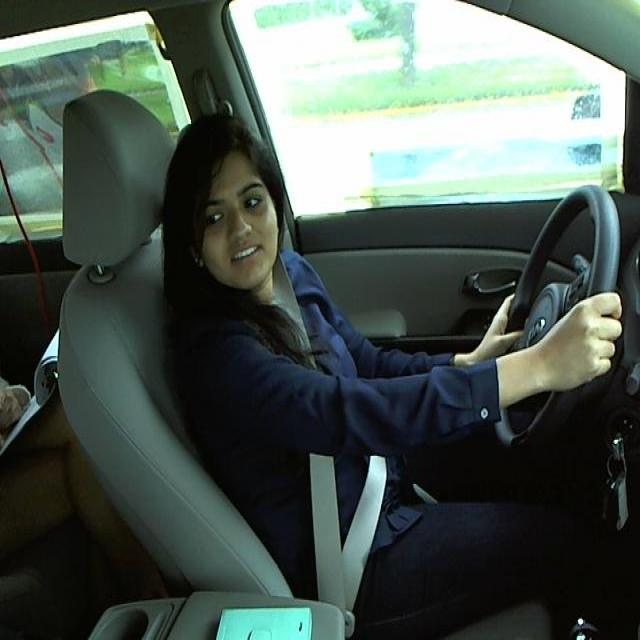seatbelt: (273, 286, 392, 602)
